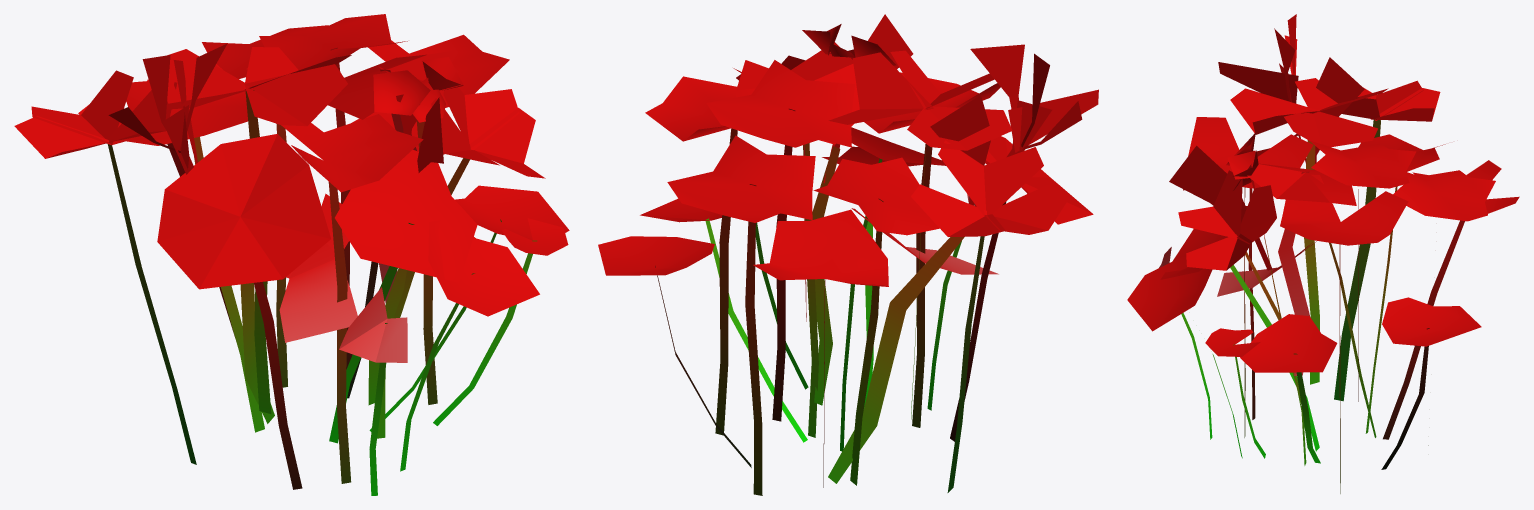
File: Purple_Shamrock_rjrrH_Mid_rjrrH_Oxalis_LOD1.fbx
3 views of the same model, side by side, from view 1: azimuth 30°, elevation 25°; view 2: azimuth 150°, elevation 25°; view 3: azimuth 270°, elevation 25° (orthographic). The views are drawn at different scales.
Parts seen in each view (by area): view 1: Oxalis_Var3_LOD2; view 2: Oxalis_Var3_LOD2; view 3: Oxalis_Var3_LOD2.
Boxes of the visible parts, <box> form: Oxalis_Var3_LOD2: <box>14,14,569,495</box>; Oxalis_Var3_LOD2: <box>598,14,1098,495</box>; Oxalis_Var3_LOD2: <box>1127,14,1519,493</box>.
Size of the model in its own units: 26.65 by 24.49 by 24.25.
